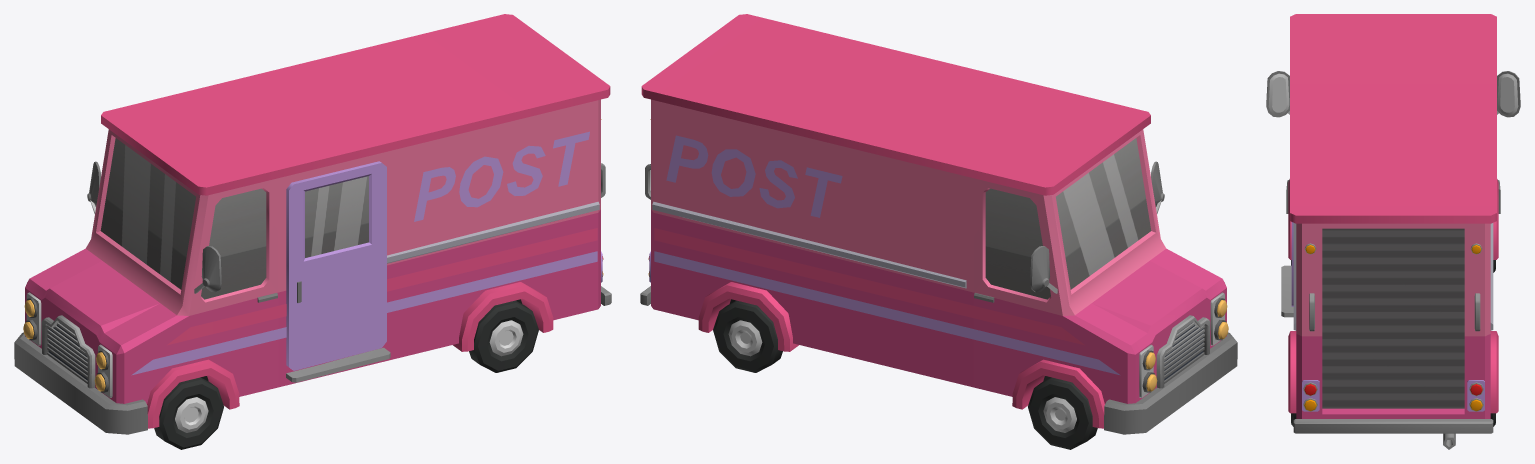
Rendered from PostCar_1_E.fbx.
3 views of the same model, side by side, from view 1: azimuth 30°, elevation 25°; view 2: azimuth 150°, elevation 25°; view 3: azimuth 270°, elevation 25° (orthographic).
Visible parts, largest first — view 1: PostCar_1_E, RL, FL; view 2: PostCar_1_E, RR, FR; view 3: PostCar_1_E.
Part boxes in pixels (box(x1,y1,x2,y2)): PostCar_1_E: box(14, 14, 611, 434); RL: box(469, 300, 538, 372); FL: box(154, 377, 223, 449); PostCar_1_E: box(640, 14, 1237, 434); RR: box(713, 300, 782, 372); FR: box(1028, 377, 1097, 449); PostCar_1_E: box(1266, 14, 1520, 449).
Bounding box in the file's own units: 4.14 × 2.02 × 1.8.
